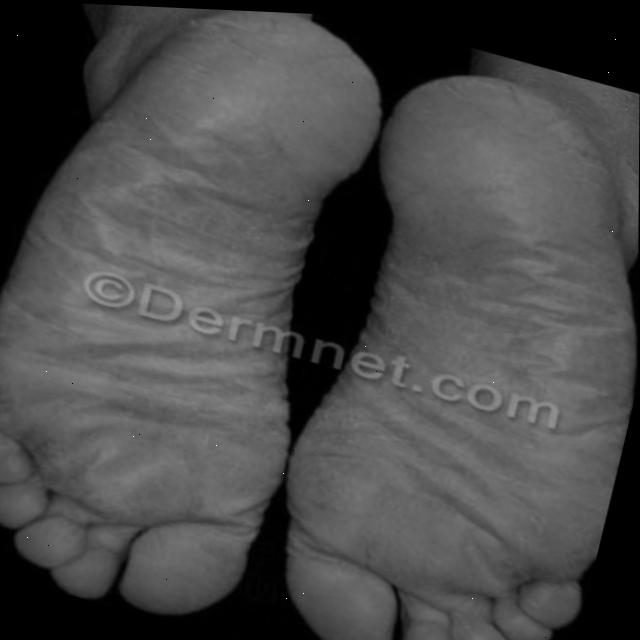Eczema: (0, 39, 357, 547), (286, 120, 639, 632)
